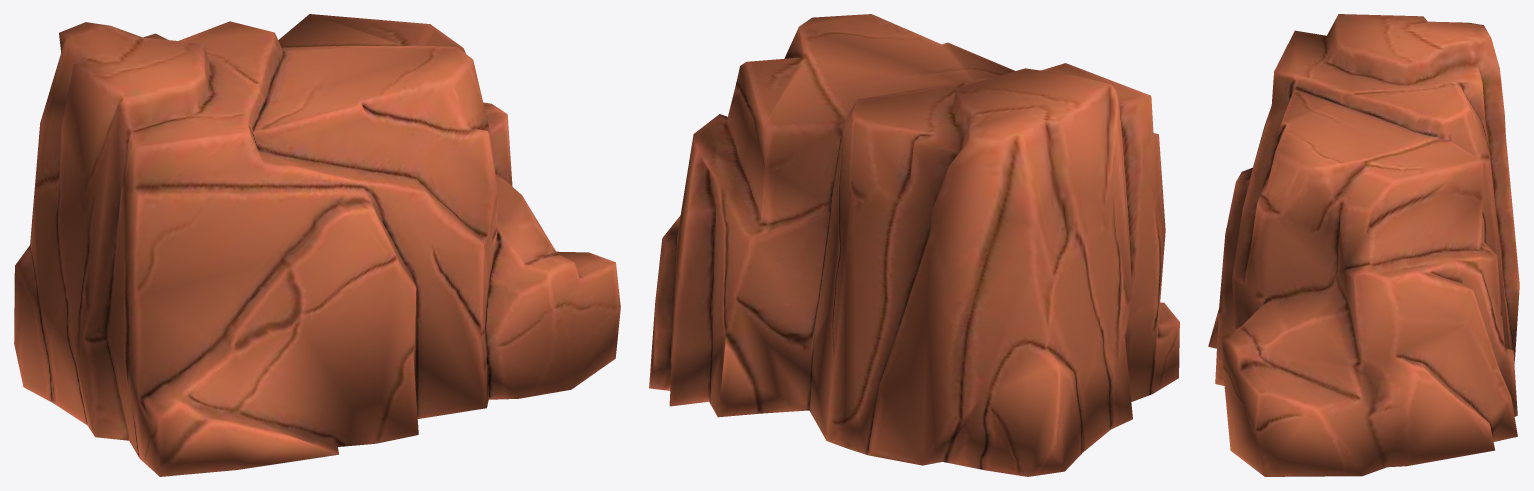
File: gorge-cliff-1.glb
The picture shows the model from 3 angles, left to right: view 1: azimuth 30°, elevation 25°; view 2: azimuth 150°, elevation 25°; view 3: azimuth 270°, elevation 25°; orthographic projection. The views are drawn at different scales.
Parts seen in each view (by area): view 1: GorgeCliff1; view 2: GorgeCliff1; view 3: GorgeCliff1.
Part boxes in pixels (bbox=[...]): GorgeCliff1: bbox=[14, 14, 620, 476]; GorgeCliff1: bbox=[649, 14, 1179, 476]; GorgeCliff1: bbox=[1208, 14, 1519, 476].
Size of the model in its own units: 3 by 2.04 by 2.03.
Materials: 1 (1 with a texture image).
